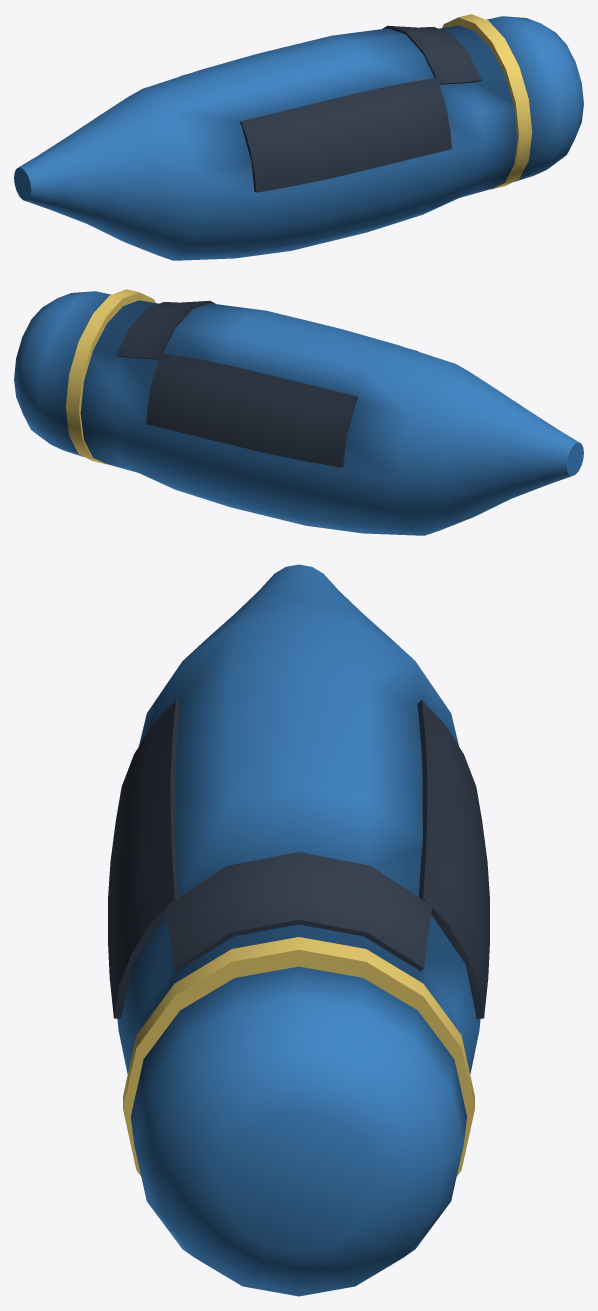
Rendered from fuselage-prop.glb.
The picture shows the model from 3 angles, top to bottom: view 1: azimuth 30°, elevation 25°; view 2: azimuth 150°, elevation 25°; view 3: azimuth 270°, elevation 25°; orthographic projection. The views are drawn at different scales.
Visible parts, largest first — view 1: body, dark, trim; view 2: body, dark, trim; view 3: body, dark, trim.
Boxes of the visible parts, <box> form: body: <box>14,16,583,260</box>; dark: <box>180,25,481,192</box>; trim: <box>442,14,532,189</box>; body: <box>14,291,583,535</box>; dark: <box>116,300,417,467</box>; trim: <box>65,289,155,464</box>; body: <box>117,564,480,1296</box>; dark: <box>108,700,489,1018</box>; trim: <box>123,937,474,1176</box>.
Size of the model in its own units: 1.44 by 0.47 by 0.4409.
